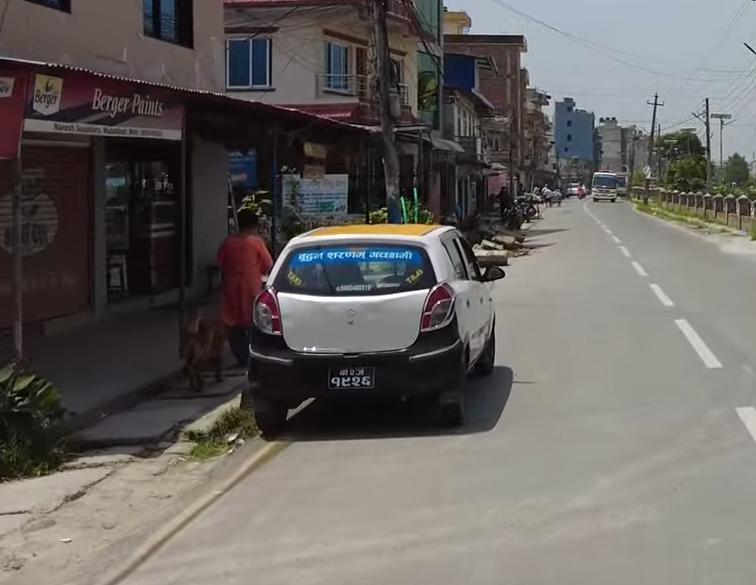bus: (589, 166, 622, 207)
taxi: (238, 215, 508, 438)
